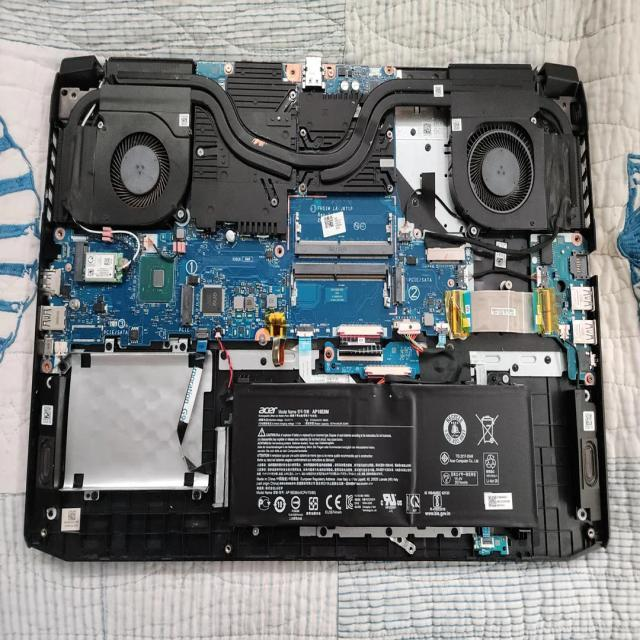NIC: (228, 377, 541, 537)
SSD: (80, 246, 128, 293)
Screw: (224, 62, 233, 74), (300, 127, 308, 139), (386, 130, 395, 140), (299, 182, 307, 193), (97, 119, 104, 130), (271, 196, 278, 207), (328, 68, 335, 78), (531, 114, 537, 125), (471, 224, 477, 235), (188, 127, 193, 137)
